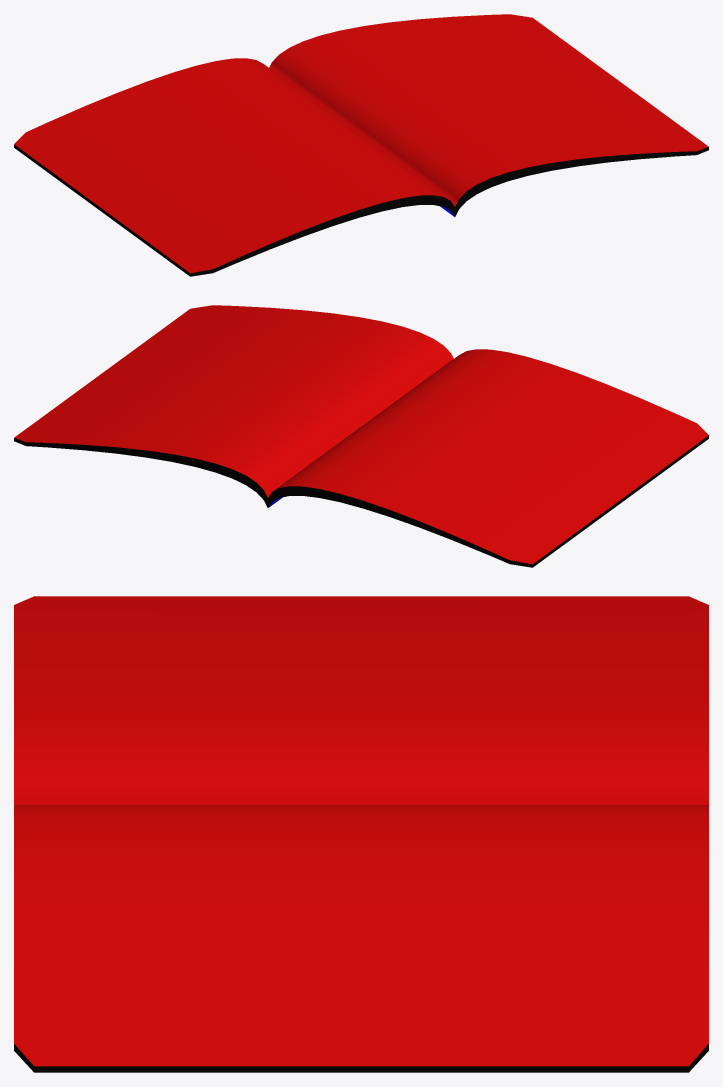
Rendered from SM_Notebook.fbx.
3 views of the same model, one above another, from view 1: azimuth 30°, elevation 25°; view 2: azimuth 150°, elevation 25°; view 3: azimuth 270°, elevation 25° (orthographic). The views are drawn at different scales.
Parts seen in each view (by area): view 1: SM_NOtebook; view 2: SM_NOtebook; view 3: SM_NOtebook.
Boxes of the visible parts, box(x1,y1,x2,y2) form: SM_NOtebook: box(14, 14, 708, 276); SM_NOtebook: box(14, 305, 708, 567); SM_NOtebook: box(14, 596, 708, 1072).
Size of the model in its own units: 32 by 1.9 by 20.
